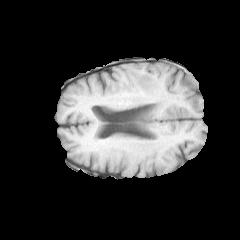glioma: (123, 62, 162, 102)
